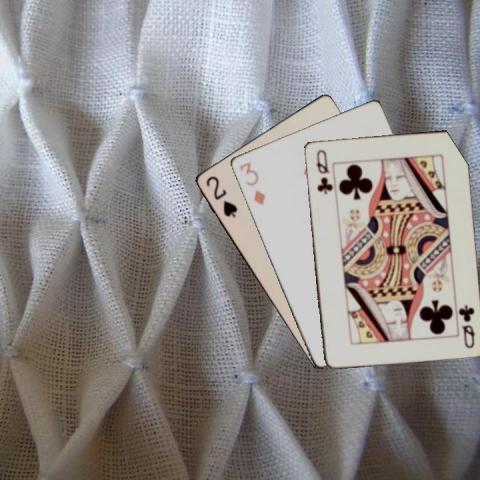2s: (202, 173, 239, 219)
3d: (236, 158, 266, 206)
Qc: (313, 146, 333, 195), (456, 301, 476, 350)
